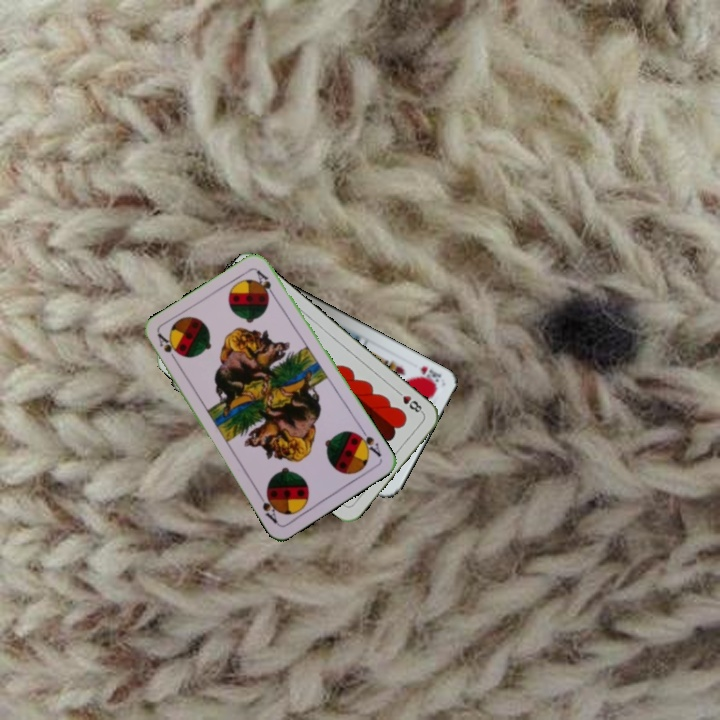H8: (392, 386, 426, 416)
HK: (416, 362, 444, 388)
SA: (352, 424, 384, 460), (154, 330, 181, 367)
